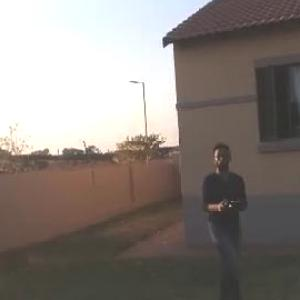follow: (199, 139, 257, 299)
